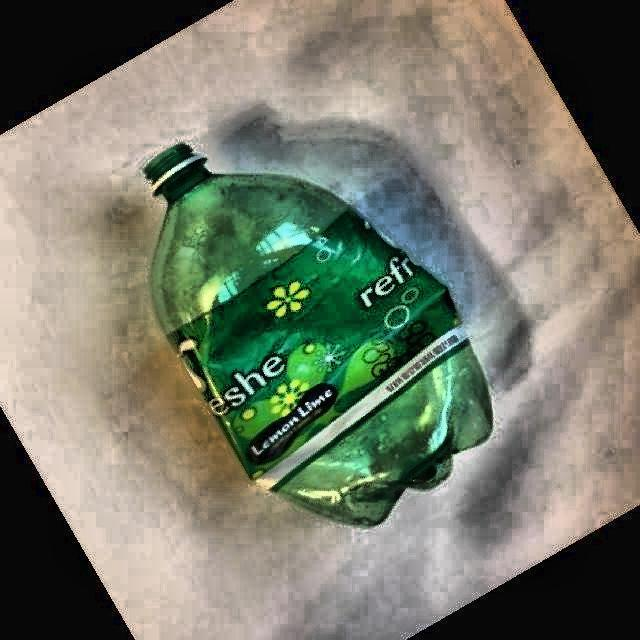plastic: (145, 144, 492, 526)
